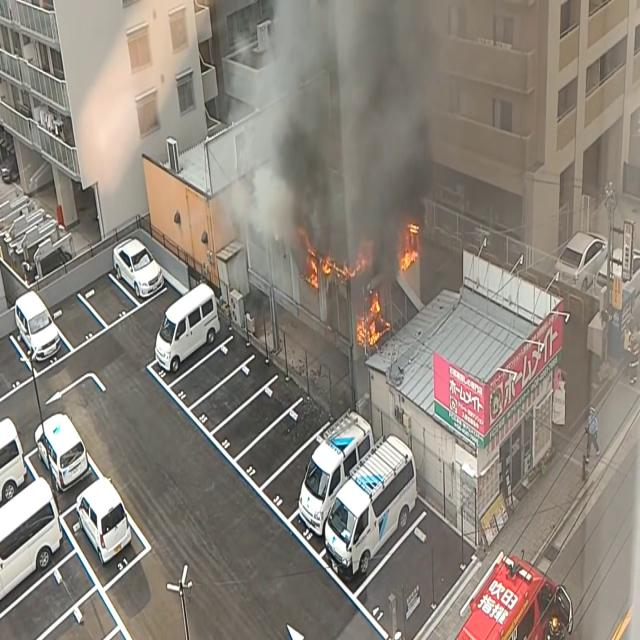Fire: (304, 243, 358, 287), (355, 286, 389, 351), (399, 215, 423, 274)
Smoke: (212, 0, 458, 280)
